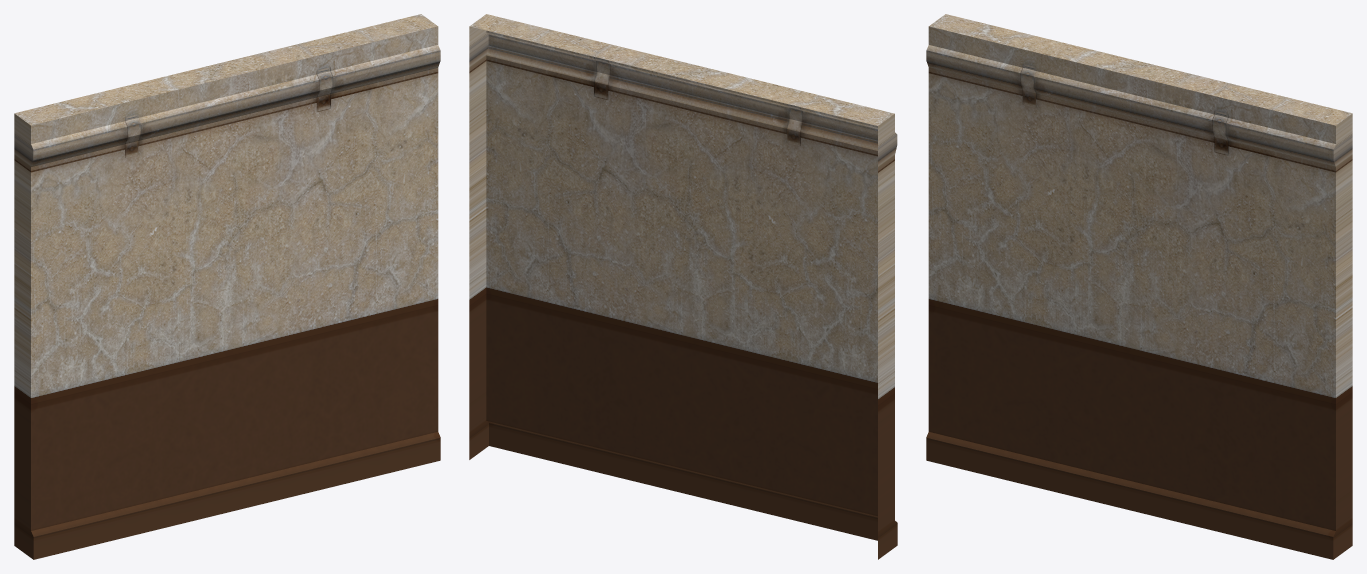
File: Wall_Serv_Med.fbx
3 renders of one model, left to right at view 1: azimuth 30°, elevation 25°; view 2: azimuth 150°, elevation 25°; view 3: azimuth 330°, elevation 25°, orthographic.
Parts seen in each view (by area): view 1: Plane.009; view 2: Plane.009; view 3: Plane.009.
Boxes of the visible parts, box(x1,y1,x2,y2) form: Plane.009: box(14, 14, 440, 559); Plane.009: box(469, 14, 897, 559); Plane.009: box(926, 14, 1352, 559).
Size of the model in its own units: 366 by 371 by 30.32.
